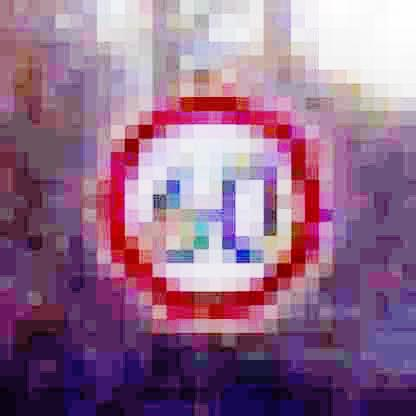Speed Limit -60-: (87, 88, 324, 331)
